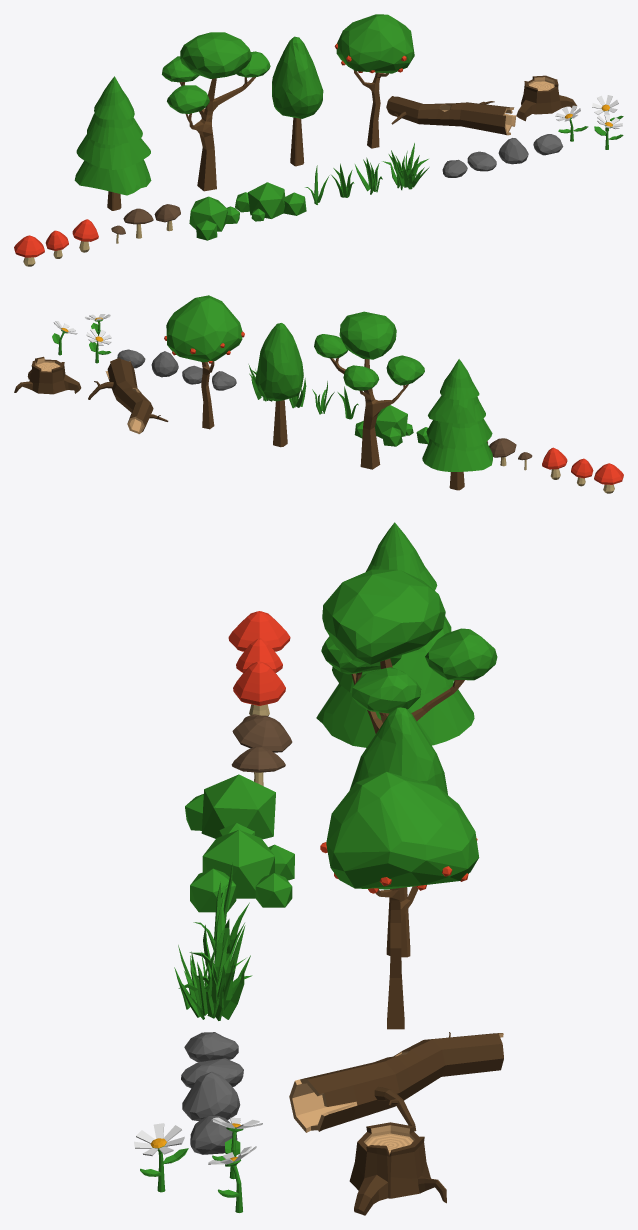
Rendered from ForestModels.fbx.
3 views of the same model, one above another, from view 1: azimuth 30°, elevation 25°; view 2: azimuth 150°, elevation 25°; view 3: azimuth 270°, elevation 25° (orthographic). The views are drawn at different scales.
Visible parts, largest first — view 1: Puffy Tree, Pine Tree, Apple Tree, Tall Tree, Log, Bush 1, Stump, Bush 2, Grass 4, Mushroom 6, Rock 3, Mushroom 4 (+10 smaller); view 2: Puffy Tree, Pine Tree, Apple Tree, Tall Tree, Log, Stump, Bush 1, Mushroom 6, Rock 3, Mushroom 4, Mushroom 2, Flower 1 (+5 smaller); view 3: Apple Tree, Puffy Tree, Log, Pine Tree, Bush 1, Stump, Tall Tree, Bush 2, Grass 4, Rock 3, Mushroom 4, Mushroom 6 (+8 smaller).
Part boxes in pixels (x1,y1,x2,y2): Puffy Tree: [162, 32, 270, 191]; Pine Tree: [74, 76, 151, 210]; Apple Tree: [334, 14, 414, 148]; Tall Tree: [272, 36, 323, 166]; Log: [386, 96, 516, 135]; Bush 1: [235, 182, 306, 221]; Stump: [516, 75, 576, 121]; Bush 2: [189, 196, 239, 240]; Grass 4: [382, 143, 429, 190]; Mushroom 6: [14, 235, 44, 266]; Rock 3: [498, 138, 528, 164]; Mushroom 4: [72, 219, 98, 252]; Puffy Tree: [314, 311, 424, 469]; Pine Tree: [422, 359, 492, 490]; Apple Tree: [164, 295, 244, 429]; Tall Tree: [255, 323, 303, 447]; Log: [88, 357, 168, 433]; Stump: [14, 356, 81, 394]; Bush 1: [354, 405, 413, 446]; Mushroom 6: [594, 463, 623, 493]; Rock 3: [151, 351, 178, 377]; Mushroom 4: [542, 447, 567, 479]; Mushroom 2: [489, 438, 516, 466]; Flower 1: [86, 328, 111, 363]; Apple Tree: [320, 772, 479, 1029]; Puffy Tree: [321, 569, 497, 733]; Log: [289, 1032, 503, 1132]; Pine Tree: [316, 522, 474, 747]; Bush 1: [190, 830, 294, 912]; Stump: [349, 1122, 446, 1215]; Tall Tree: [350, 707, 447, 957]; Bush 2: [185, 774, 275, 839]; Grass 4: [174, 934, 252, 1020]; Rock 3: [182, 1071, 240, 1120]; Mushroom 4: [233, 661, 285, 715]; Mushroom 6: [228, 611, 290, 651].
Bounding box in the file's own units: 287 × 71.78 × 79.53.
